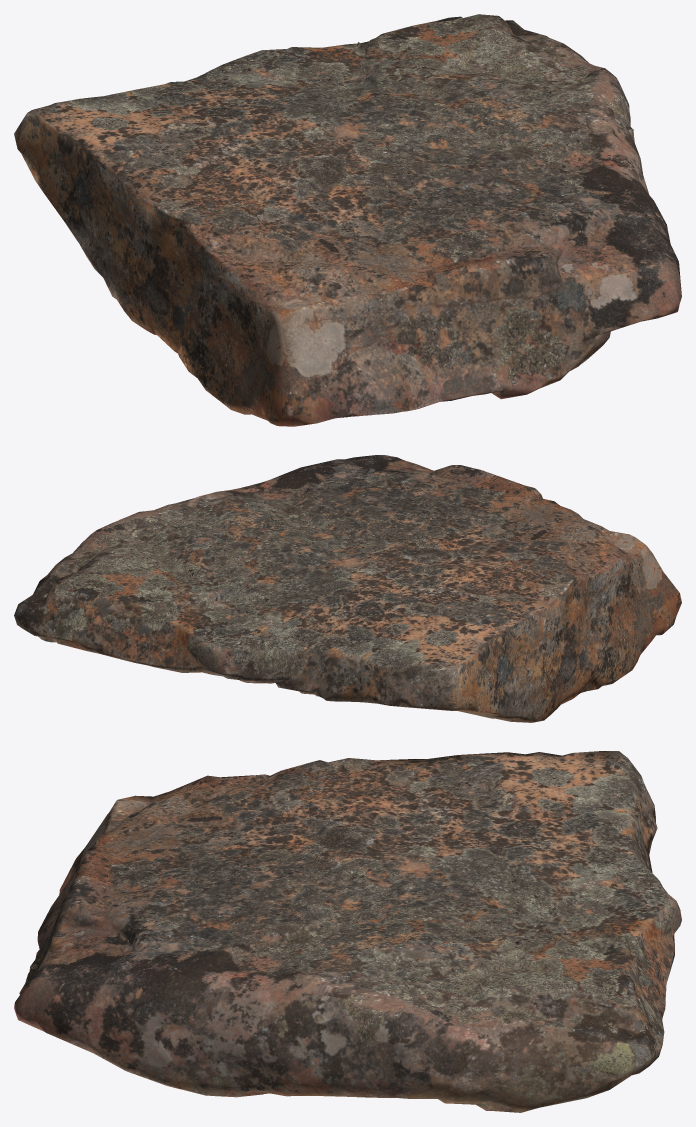
Rendered from SM_ydejcd3_tier_2.gltf.
The picture shows the model from 3 angles, top to bottom: view 1: azimuth 30°, elevation 25°; view 2: azimuth 150°, elevation 25°; view 3: azimuth 270°, elevation 25°; orthographic projection. The views are drawn at different scales.
Parts seen in each view (by area): view 1: ydejcd3_LOD2_TIER2_000; view 2: ydejcd3_LOD2_TIER2_000; view 3: ydejcd3_LOD2_TIER2_000.
Boxes of the visible parts, x1,y1,x2,y2 form: ydejcd3_LOD2_TIER2_000: (14, 14, 681, 426); ydejcd3_LOD2_TIER2_000: (14, 455, 681, 722); ydejcd3_LOD2_TIER2_000: (14, 751, 681, 1112).
Bounding box in the file's own units: 0.3795 × 0.1087 × 0.4029.
1 material, 1 textured.
